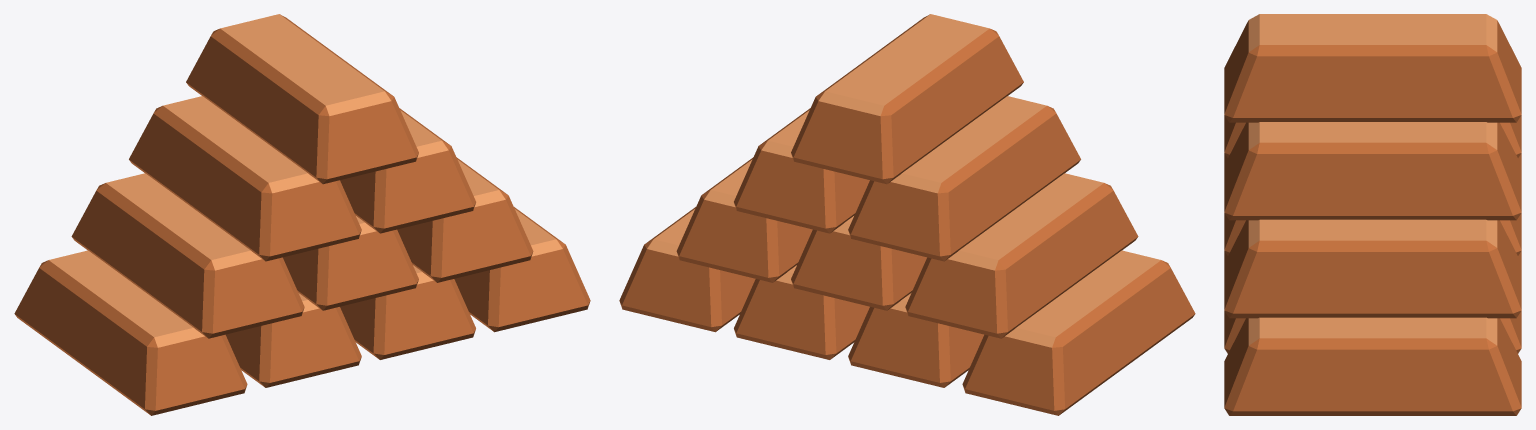
File: Res_IngotStack_Copper.fbx
3 renders of one model, left to right at view 1: azimuth 30°, elevation 25°; view 2: azimuth 150°, elevation 25°; view 3: azimuth 270°, elevation 25°, orthographic. The views are drawn at different scales.
Visible parts, largest first — view 1: Res_IngotStack_Copper; view 2: Res_IngotStack_Copper; view 3: Res_IngotStack_Copper.
Part boxes in pixels (x1,y1,x2,y2): Res_IngotStack_Copper: [14, 14, 590, 415]; Res_IngotStack_Copper: [619, 14, 1195, 415]; Res_IngotStack_Copper: [1224, 14, 1521, 415].
Bounding box in the file's own units: 0.5457 × 0.297 × 0.2941.
